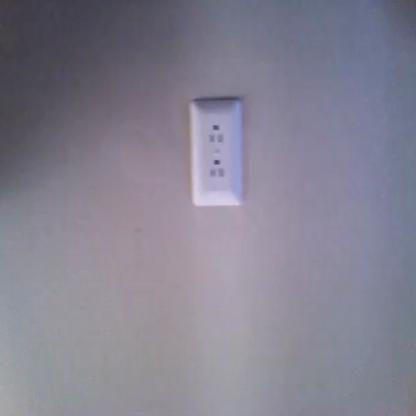OUTLET: (188, 100, 245, 206)
